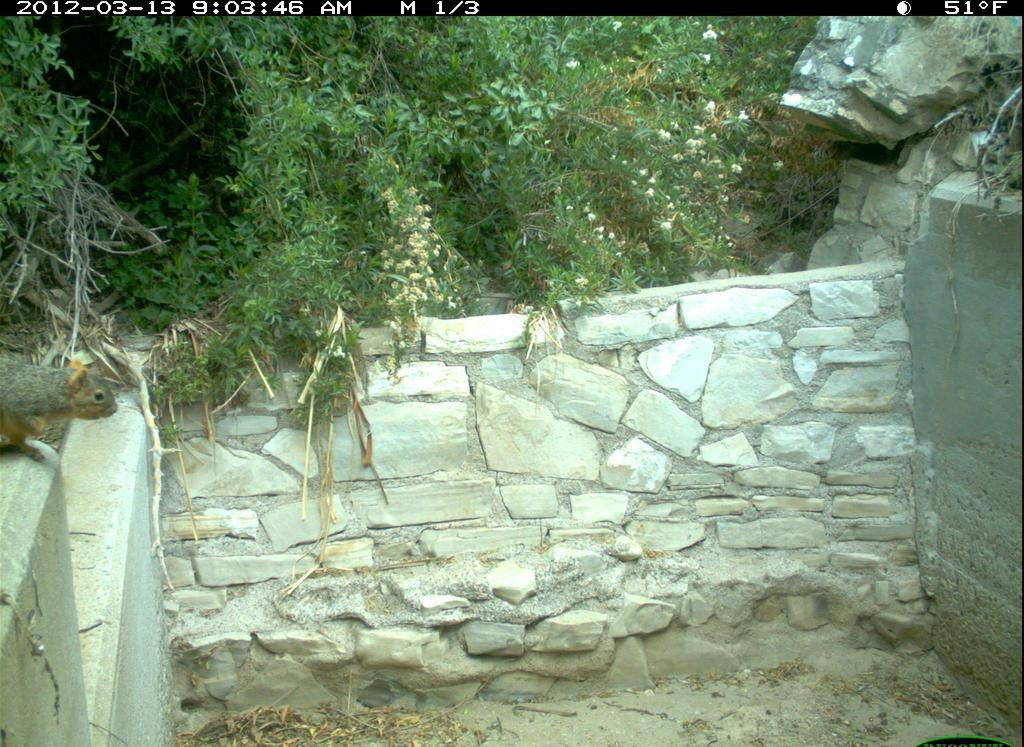squirrel: (4, 332, 136, 469)
